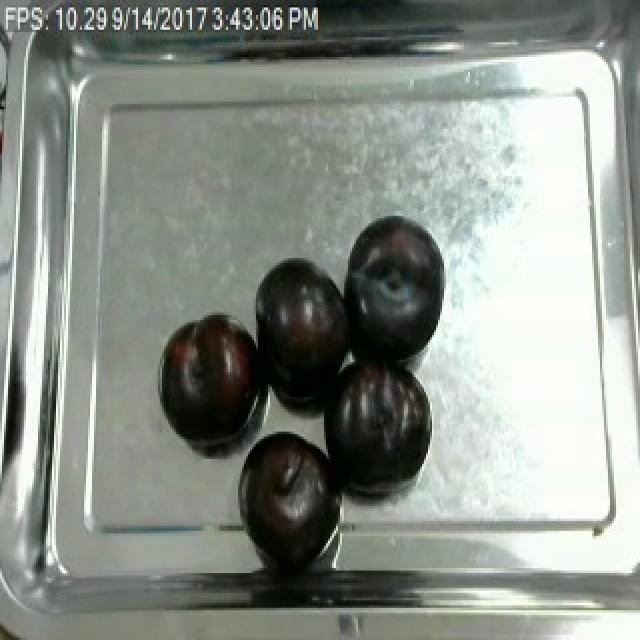Fruit: (334, 211, 452, 372), (320, 349, 434, 494), (158, 308, 260, 444), (252, 256, 352, 377), (238, 426, 330, 556)
